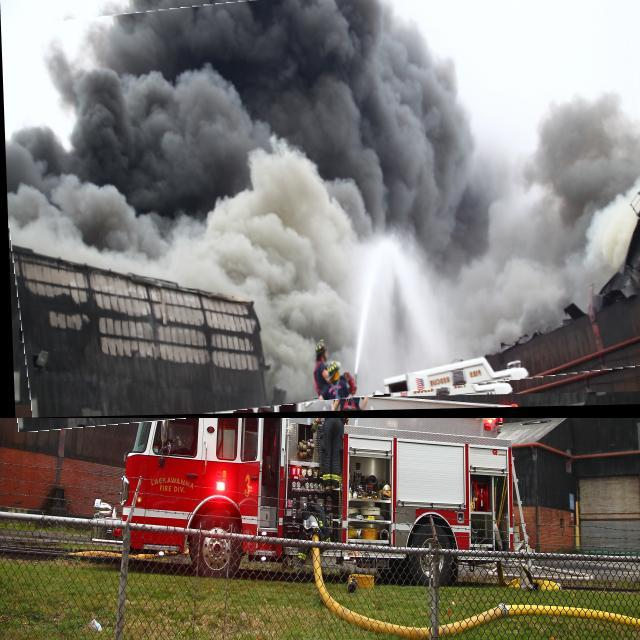smoke: (22, 26, 486, 226), (8, 126, 310, 401), (443, 190, 635, 274), (526, 91, 640, 196), (445, 272, 570, 344)
